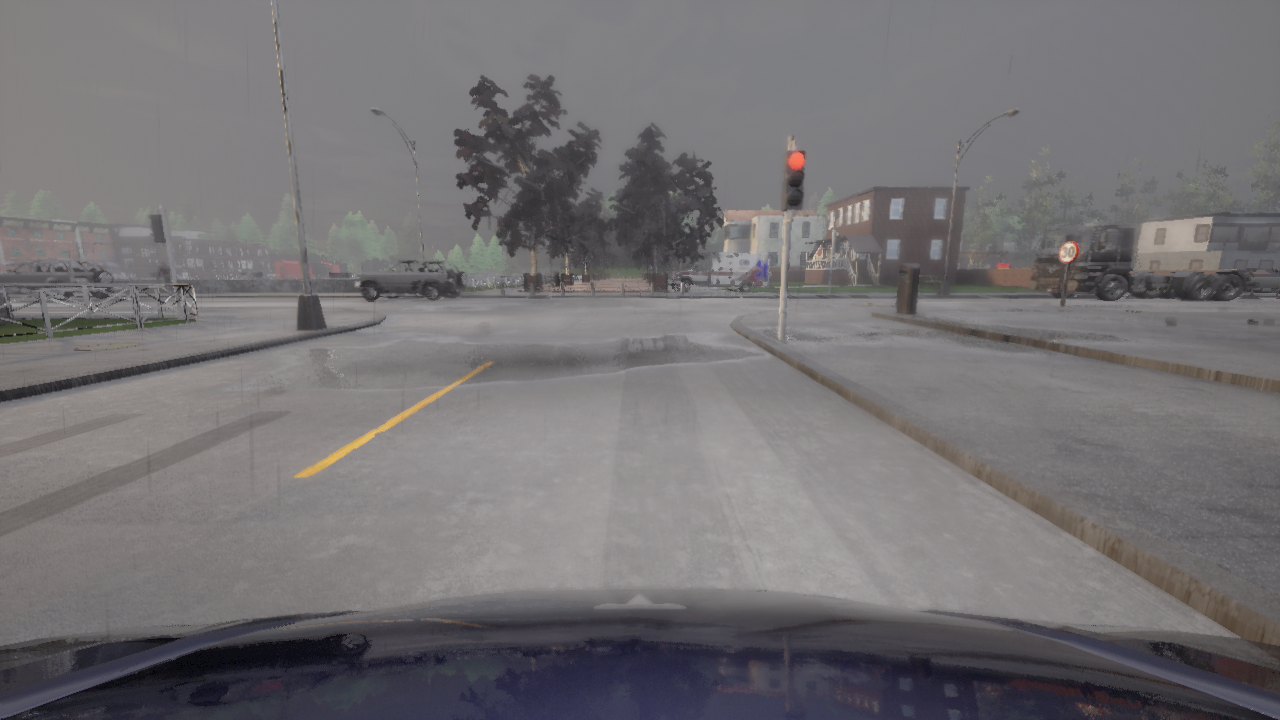cyclist: (0, 588, 1279, 719), (1028, 222, 1258, 301), (0, 258, 117, 300), (355, 258, 467, 300), (667, 251, 772, 292), (1237, 268, 1279, 291)
pedestrian: (157, 260, 173, 293)
